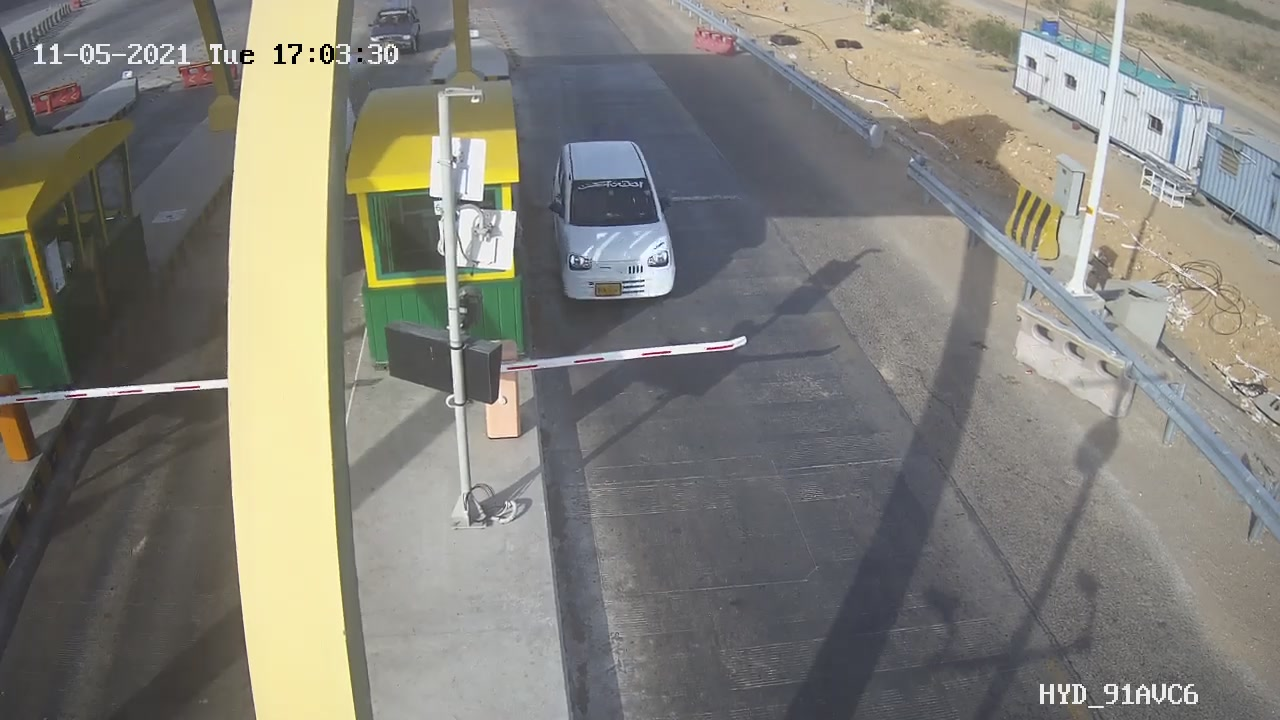F1: (531, 125, 700, 322)
